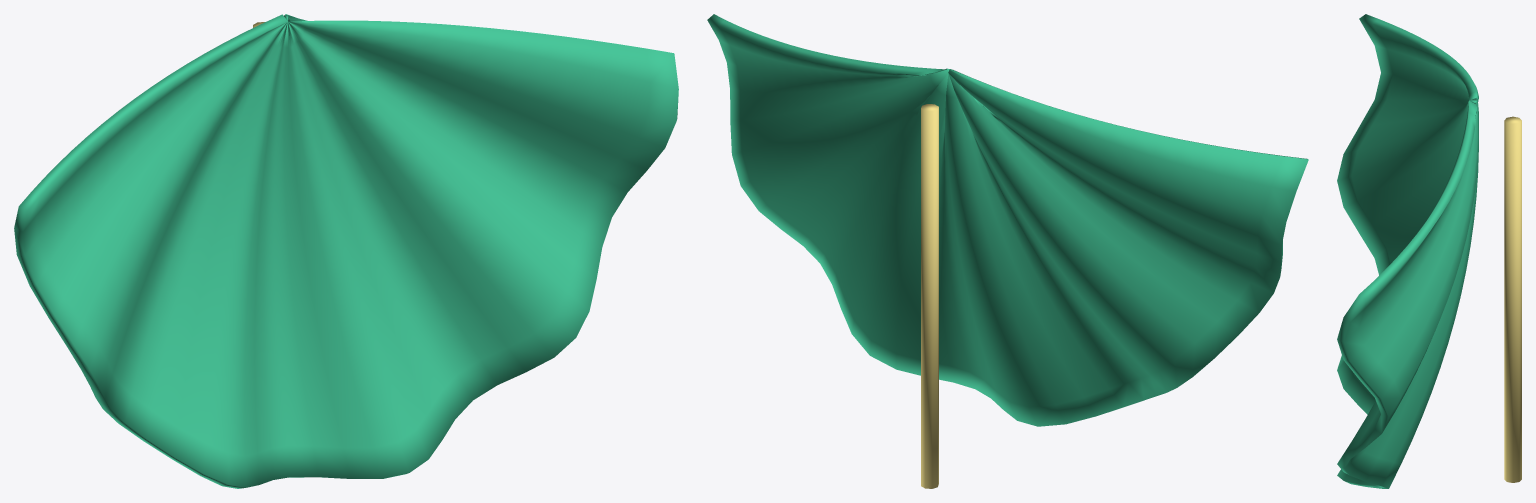
The model's file is dragon-scale.glb.
3 renders of one model, left to right at view 1: azimuth 30°, elevation 25°; view 2: azimuth 150°, elevation 25°; view 3: azimuth 270°, elevation 25°, orthographic. The views are drawn at different scales.
Visible parts, largest first — view 1: scl; view 2: scl, Cylinder; view 3: scl, Cylinder.
Boxes of the visible parts, x1=… form: scl: x1=14, y1=14, x2=678, y2=488; scl: x1=707, y1=14, x2=1308, y2=426; Cylinder: x1=921, y1=104, x2=938, y2=488; scl: x1=1337, y1=14, x2=1478, y2=488; Cylinder: x1=1504, y1=116, x2=1521, y2=482.
Size of the model in its own units: 1.72 by 1.1 by 0.4819.
